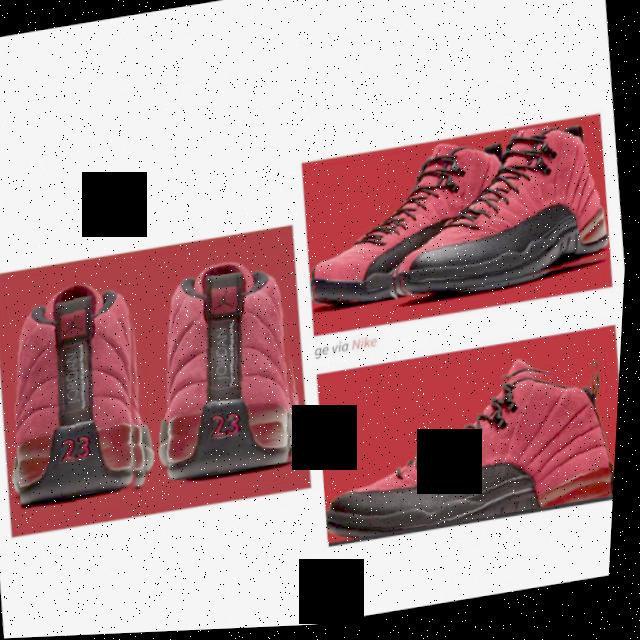shoe: (316, 356, 625, 546), (380, 121, 621, 309), (0, 273, 166, 532), (139, 247, 319, 485), (300, 141, 523, 316)
